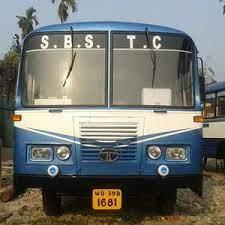Bus: (10, 20, 210, 216)
